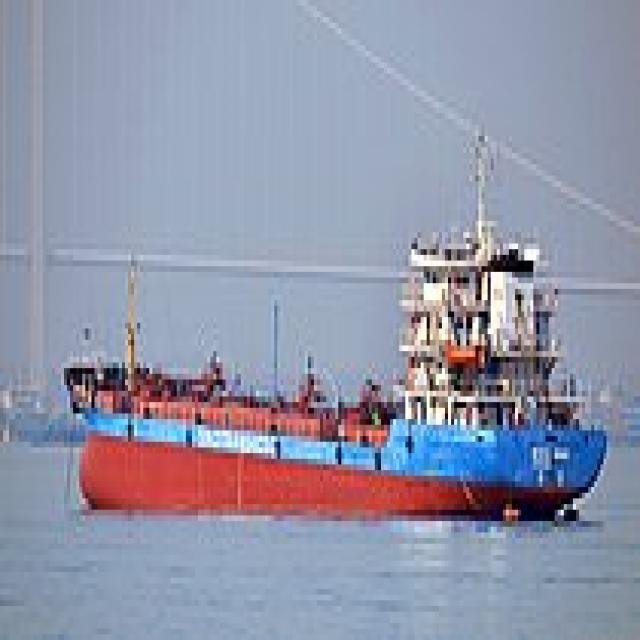Tanker: (55, 130, 609, 521)
